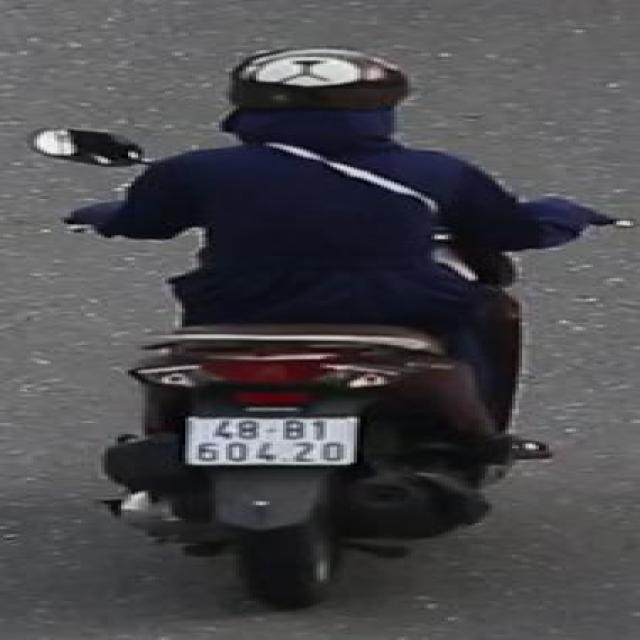LP: (177, 411, 365, 468)
helmet: (210, 41, 417, 148)
